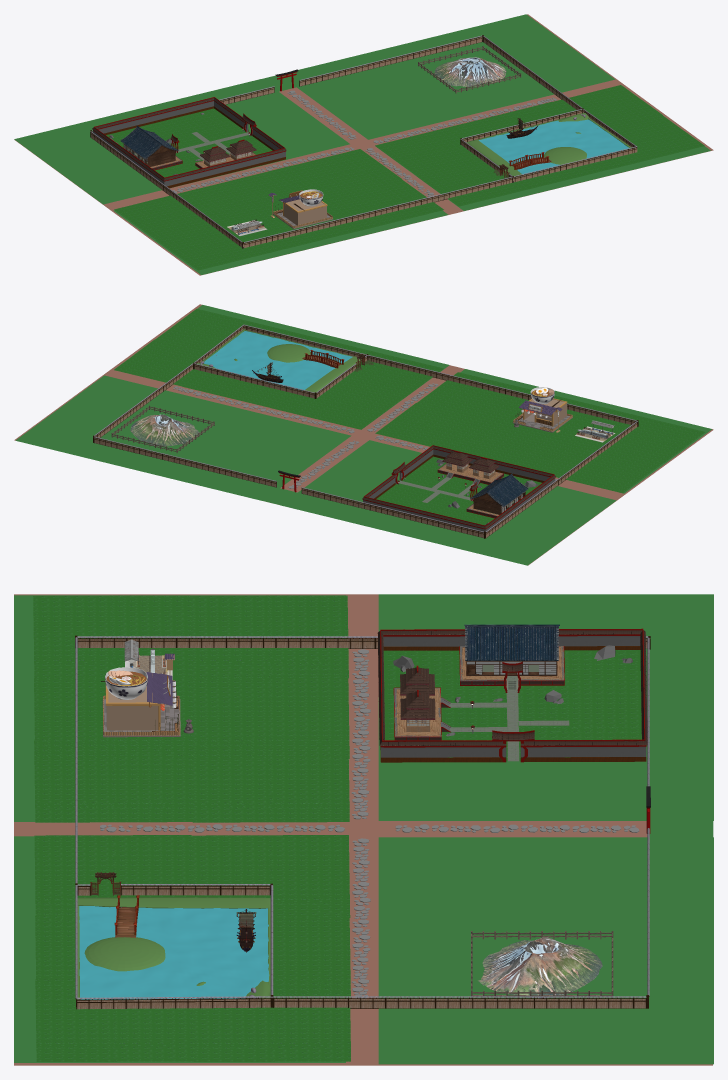
File: plazaPrincipal_optimizado.glb
3 views of the same model, one above another, from view 1: azimuth 30°, elevation 25°; view 2: azimuth 150°, elevation 25°; view 3: azimuth 270°, elevation 25° (orthographic). The views are drawn at different scales.
Parts seen in each view (by area): view 1: Plane.Principal, Grass_M_Grass_0, FenceCornerPost_MainWood_0.001, agua1, Exterior_Wall_Japanese_Wall_Module:M_TrimSheet_1024_0, Plane.001_Palette_0.002, Exterior_Wall76_M_TrimSheet_1024_0, Object_2.001, polySurface394_lambert5_0, Exterior_Wall_Japanese_Wall_Module:M_WoodPlank_0, MSH_Restaurant_MA_Restaurant_0, CercaVolcan.1 (+2 smaller); view 2: Plane.Principal, Grass_M_Grass_0, FenceCornerPost_MainWood_0.001, agua1, Exterior_Wall_Japanese_Wall_Module:M_TrimSheet_1024_0, Exterior_Wall76_M_TrimSheet_1024_0, Plane.001_Palette_0.002, Object_2.001, polySurface394_lambert5_0, CercaVolcan.1, Path_M_Paving_0, polySurface15_blinn1_0.001 (+2 smaller); view 3: Plane.Principal, Grass_M_Grass_0, FenceCornerPost_MainWood_0.001, agua1, Exterior_Wall_Japanese_Wall_Module:M_TrimSheet_1024_0, Exterior_Wall76_M_TrimSheet_1024_0, Plane.001_Palette_0.002, Object_2.001, polySurface394_lambert5_0, Exterior_Wall_Japanese_Wall_Module:M_WoodPlank_0, MSH_Restaurant_MA_Restaurant_0, Path_M_Paving_0 (+7 smaller).
Boxes of the visible parts, left/top/right/bottom form: Plane.Principal: left=14, top=14, right=713, bottom=275; Grass_M_Grass_0: left=106, top=85, right=704, bottom=270; FenceCornerPost_MainWood_0.001: left=90, top=35, right=637, bottom=248; agua1: left=478, top=119, right=629, bottom=174; Exterior_Wall_Japanese_Wall_Module:M_TrimSheet_1024_0: left=92, top=98, right=286, bottom=186; Plane.001_Palette_0.002: left=173, top=90, right=556, bottom=196; Exterior_Wall76_M_TrimSheet_1024_0: left=93, top=97, right=285, bottom=178; Object_2.001: left=434, top=57, right=506, bottom=86; polySurface394_lambert5_0: left=120, top=125, right=178, bottom=158; Exterior_Wall_Japanese_Wall_Module:M_WoodPlank_0: left=104, top=106, right=285, bottom=188; MSH_Restaurant_MA_Restaurant_0: left=283, top=199, right=327, bottom=225; CercaVolcan.1: left=418, top=46, right=521, bottom=93; Plane.Principal: left=14, top=304, right=713, bottom=565; Grass_M_Grass_0: left=114, top=309, right=704, bottom=525; FenceCornerPost_MainWood_0.001: left=93, top=324, right=638, bottom=538; agua1: left=204, top=331, right=352, bottom=390; Exterior_Wall_Japanese_Wall_Module:M_TrimSheet_1024_0: left=362, top=446, right=555, bottom=532; Exterior_Wall76_M_TrimSheet_1024_0: left=364, top=445, right=554, bottom=526; Plane.001_Palette_0.002: left=173, top=383, right=556, bottom=488; Object_2.001: left=130, top=414, right=199, bottom=446; polySurface394_lambert5_0: left=470, top=473, right=528, bottom=506; CercaVolcan.1: left=111, top=405, right=214, bottom=452; Path_M_Paving_0: left=398, top=477, right=474, bottom=502; polySurface15_blinn1_0.001: left=575, top=420, right=615, bottom=442; Plane.Principal: left=14, top=594, right=713, bottom=1065; Grass_M_Grass_0: left=33, top=595, right=641, bottom=1061; FenceCornerPost_MainWood_0.001: left=75, top=635, right=650, bottom=1009; agua1: left=79, top=906, right=269, bottom=999; Exterior_Wall_Japanese_Wall_Module:M_TrimSheet_1024_0: left=377, top=630, right=647, bottom=757; Exterior_Wall76_M_TrimSheet_1024_0: left=380, top=628, right=645, bottom=762; Plane.001_Palette_0.002: left=100, top=649, right=639, bottom=998; Object_2.001: left=478, top=937, right=602, bottom=998; polySurface394_lambert5_0: left=464, top=624, right=559, bottom=660; Exterior_Wall_Japanese_Wall_Module:M_WoodPlank_0: left=380, top=646, right=646, bottom=762; MSH_Restaurant_MA_Restaurant_0: left=105, top=684, right=160, bottom=730; Path_M_Paving_0: left=449, top=676, right=569, bottom=761.
Size of the model in its own units: 316 by 18.77 by 198.
Materials: 46 (43 with a texture image).
